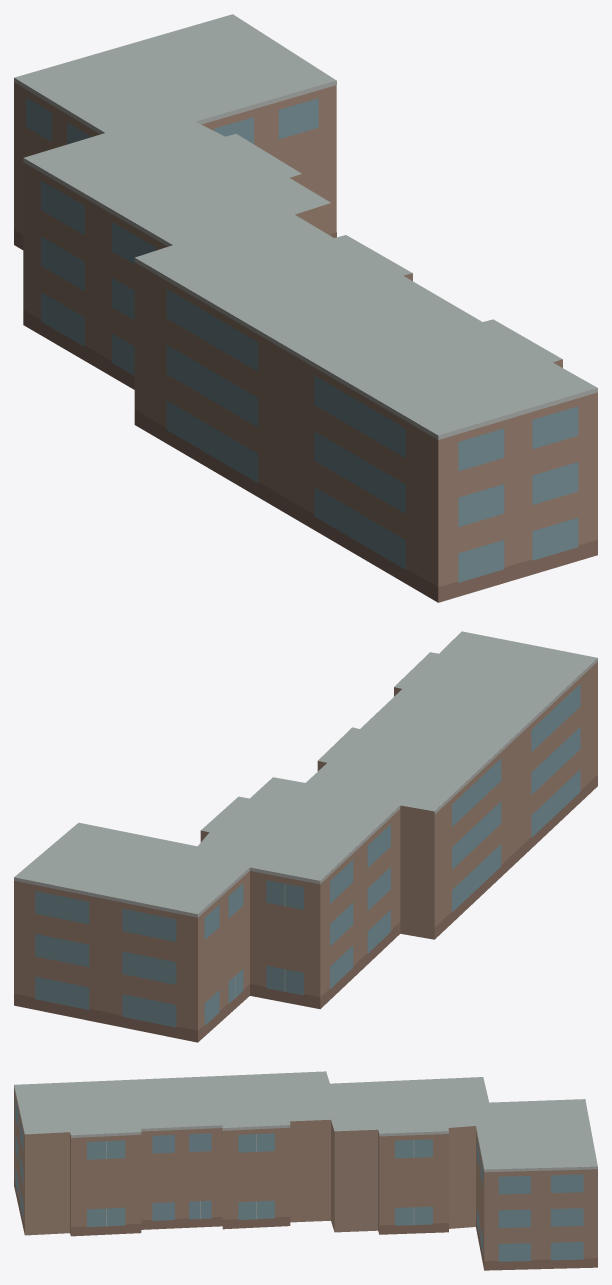
File: survey-upis-32877857.glb
3 views of the same model, one above another, from view 1: azimuth 30°, elevation 25°; view 2: azimuth 150°, elevation 25°; view 3: azimuth 270°, elevation 25° (orthographic). The views are drawn at different scales.
Visible parts, largest first — view 1: survey-upis-32877857.tmp; view 2: survey-upis-32877857.tmp; view 3: survey-upis-32877857.tmp.
Boxes of the visible parts, bbox=[...] form: survey-upis-32877857.tmp: bbox=[14, 14, 597, 602]; survey-upis-32877857.tmp: bbox=[14, 631, 597, 1042]; survey-upis-32877857.tmp: bbox=[14, 1071, 597, 1270].
Size of the model in its own units: 19.08 by 9.15 by 47.94.
